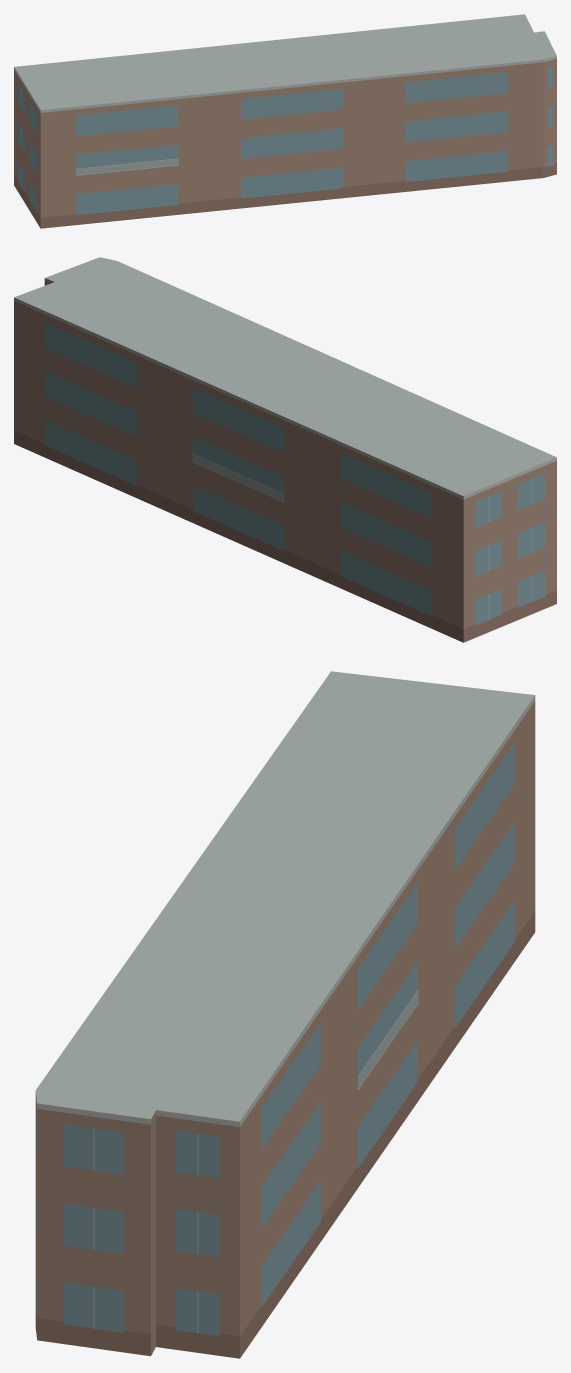
File: survey-upis-32876198.glb
3 renders of one model, top to bottom at view 1: azimuth 30°, elevation 25°; view 2: azimuth 150°, elevation 25°; view 3: azimuth 270°, elevation 25°, orthographic. The views are drawn at different scales.
Parts seen in each view (by area): view 1: survey-upis-32876198.tmp; view 2: survey-upis-32876198.tmp; view 3: survey-upis-32876198.tmp.
Part boxes in pixels (x1=…): survey-upis-32876198.tmp: x1=14, y1=14, x2=556, y2=228; survey-upis-32876198.tmp: x1=14, y1=257, x2=556, y2=642; survey-upis-32876198.tmp: x1=35, y1=671, x2=535, y2=1358.
Size of the model in its own units: 43.24 by 10.6 by 20.27.
